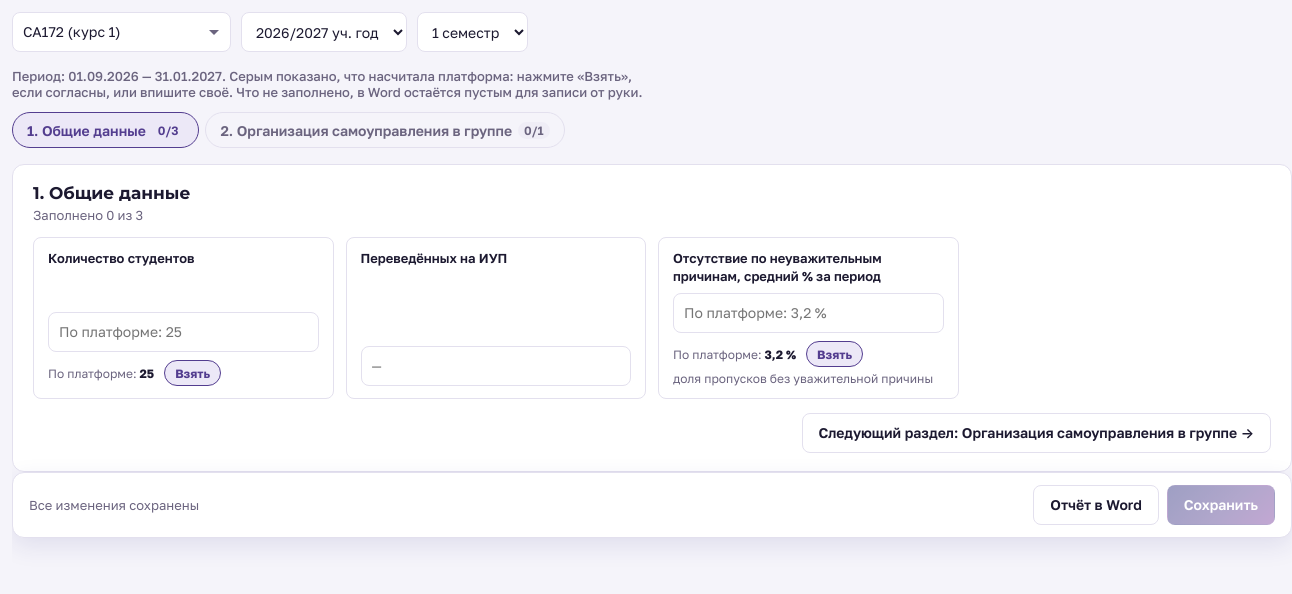
Test case: ReportPage — отчёт куратора › если сохранить не вышло, файл не скачивается, а ошибка видна
Type "3" into the field labelled "Переведённых на ИУП" at (496,366), box [360, 346, 631, 386]
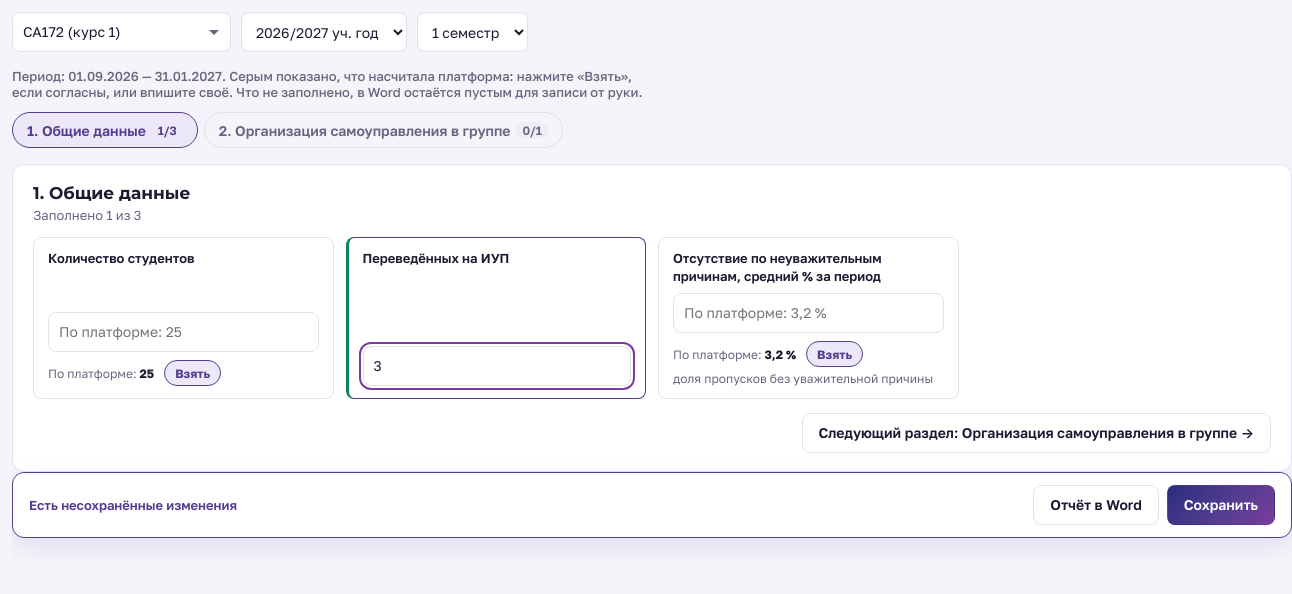
Click the button "Отчёт в Word" at (1096,505), box [1033, 485, 1159, 525]
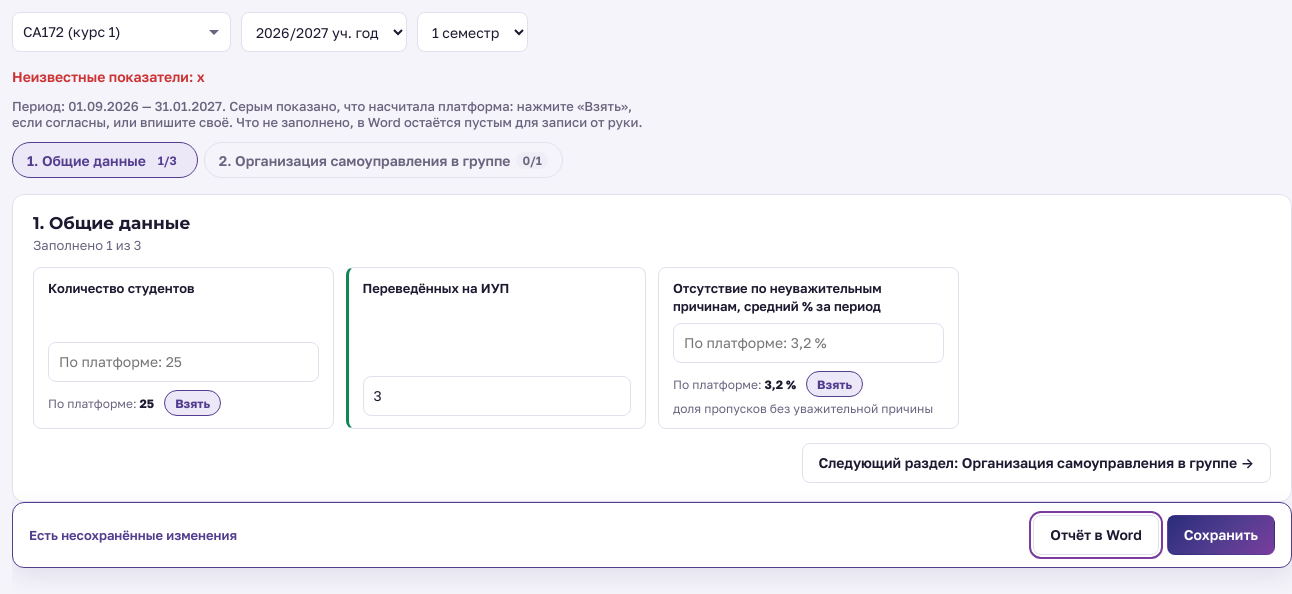
expect the text "Неизвестные показатели: x" is shown: met, box [12, 68, 205, 85]
